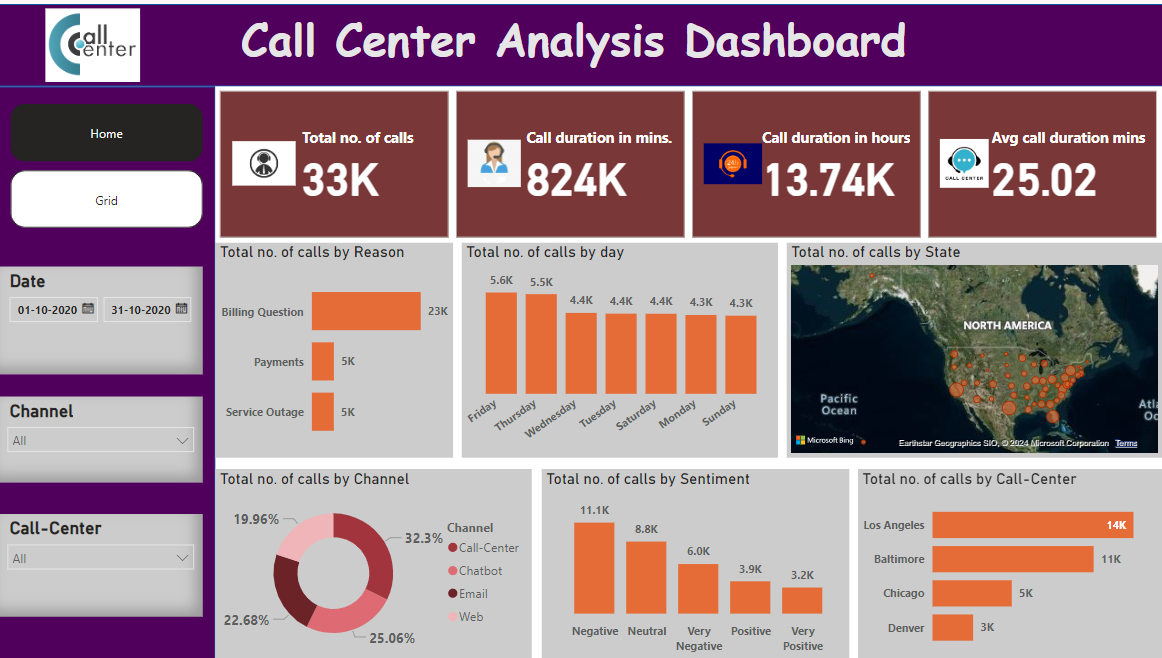

Layout of this report page (visuals, bound fields, positions):
{"tool":"powerbi","page":{"name":"Home","canvas":[1280,720],"ordinal":0},"visuals":[{"type":"shape","box":[0,0,1280.3,90.6],"z":0},{"type":"textbox","box":[0,0,1263.8,91.9],"z":1000},{"type":"shape","box":[0,90.6,238.8,629.8],"z":2000},{"type":"cardVisual","fields":{"Data":["Call Center.Total no. of calls","Call Center.Call Duration in mins.","Call Center.Call duration in hours","Call Center.Avg call duration in mins"]},"box":[238.8,90.6,1041.5,171.5],"z":3000},{"type":"image","box":[0,0,208.6,90.6],"z":4000},{"type":"columnChart","fields":{"Y":["Call Center.Total no. of calls"],"Category":["Call Center.Call Timestamp - Copy"]},"box":[509.1,262.1,347.2,236],"z":5000},{"type":"map","fields":{"Category":["Call Center.State"],"Size":["Call Center.Total no. of calls"]},"box":[865.9,262.1,414.4,236],"z":6000},{"type":"donutChart","fields":{"Category":["Call Center.Channel"],"Y":["Call Center.Total no. of calls"]},"box":[238.8,510.5,347.2,209.9],"z":7000},{"type":"columnChart","fields":{"Category":["Call Center.Sentiment"],"Y":["Call Center.Total no. of calls"]},"box":[596.9,510.5,337.6,209.9],"z":8000},{"type":"barChart","fields":{"Y":["Call Center.Total no. of calls"],"Category":["Call Center.Call-Center"]},"box":[944.1,510.5,336.2,209.9],"z":9000},{"type":"pageNavigator","box":[13.7,109.8,211.3,137.2],"z":10000},{"type":"slicer","fields":{"Values":["Call Center.Call Timestamp"]},"box":[0,288.2,225,118],"z":11000},{"type":"slicer","fields":{"Values":["Call Center.Channel"]},"box":[0,430.9,225,94.7],"z":12000},{"type":"slicer","fields":{"Values":["Call Center.Call-Centres City"]},"box":[0,559.9,225,112.5],"z":13000},{"type":"barChart","fields":{"Category":["Call Center.Reason"],"Y":["Call Center.Total no. of calls"]},"box":[238.8,262.1,260.7,236],"z":13001}]}

Visuals, with their boxes in screenshot pixels (x1, y1, x2, y2), scaled from the page's 1280x720 canvas onto the 1162x658 screenshot:
shape: region(0, 0, 1161, 83)
textbox: region(0, 0, 1147, 84)
shape: region(0, 83, 217, 657)
cardVisual - Call Center.Total no. of calls x Call Center.Call Duration in mins.: region(217, 83, 1161, 240)
image: region(0, 0, 189, 83)
columnChart - Call Center.Total no. of calls x Call Center.Call Timestamp - Copy: region(462, 240, 777, 455)
map - Call Center.State x Call Center.Total no. of calls: region(786, 240, 1161, 455)
donutChart - Call Center.Channel x Call Center.Total no. of calls: region(217, 467, 532, 657)
columnChart - Call Center.Sentiment x Call Center.Total no. of calls: region(542, 467, 848, 657)
barChart - Call Center.Total no. of calls x Call Center.Call-Center: region(857, 467, 1161, 657)
pageNavigator: region(12, 100, 204, 226)
slicer - Call Center.Call Timestamp: region(0, 263, 204, 371)
slicer - Call Center.Channel: region(0, 394, 204, 480)
slicer - Call Center.Call-Centres City: region(0, 512, 204, 614)
barChart - Call Center.Reason x Call Center.Total no. of calls: region(217, 240, 453, 455)
